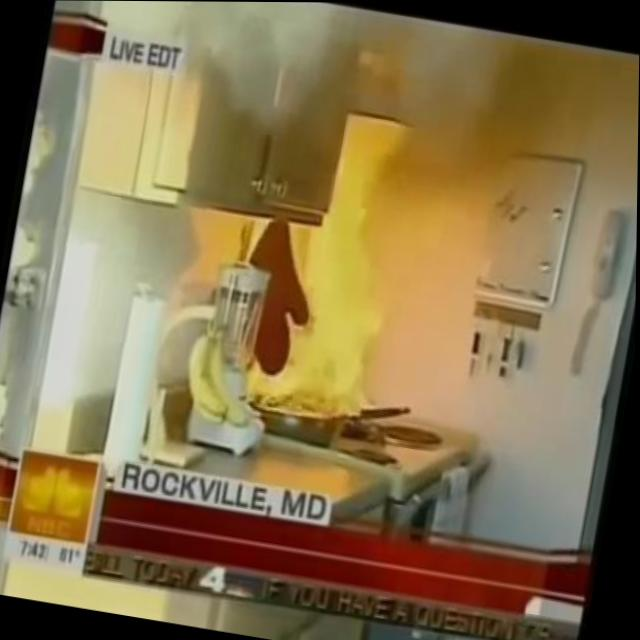fire: (214, 213, 413, 422), (325, 108, 429, 244)
